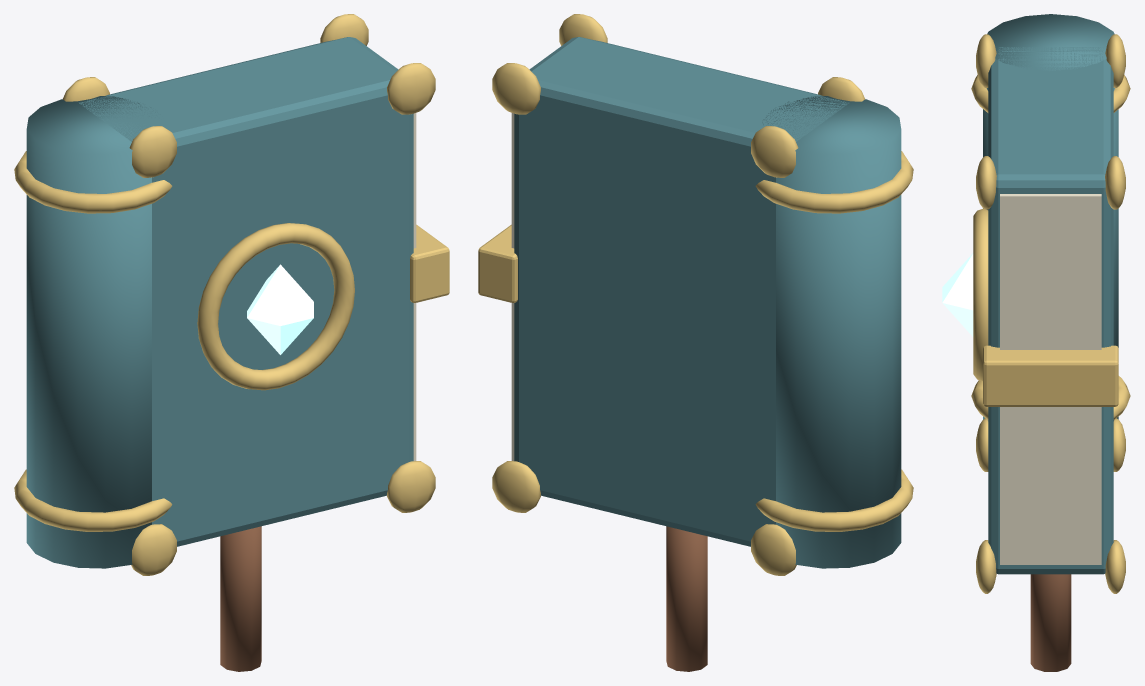
Rendered from tomo-invocador-490.glb.
The picture shows the model from 3 angles, left to right: view 1: azimuth 30°, elevation 25°; view 2: azimuth 150°, elevation 25°; view 3: azimuth 270°, elevation 25°; orthographic projection. The views are drawn at different scales.
Parts seen in each view (by area): view 1: tomo-invocador; view 2: tomo-invocador; view 3: tomo-invocador.
Part boxes in pixels (<box>): tomo-invocador: <box>14,14,449,671</box>; tomo-invocador: <box>478,14,913,671</box>; tomo-invocador: <box>942,14,1130,671</box>.
Size of the model in its own units: 0.257 by 0.371 by 0.1111.
